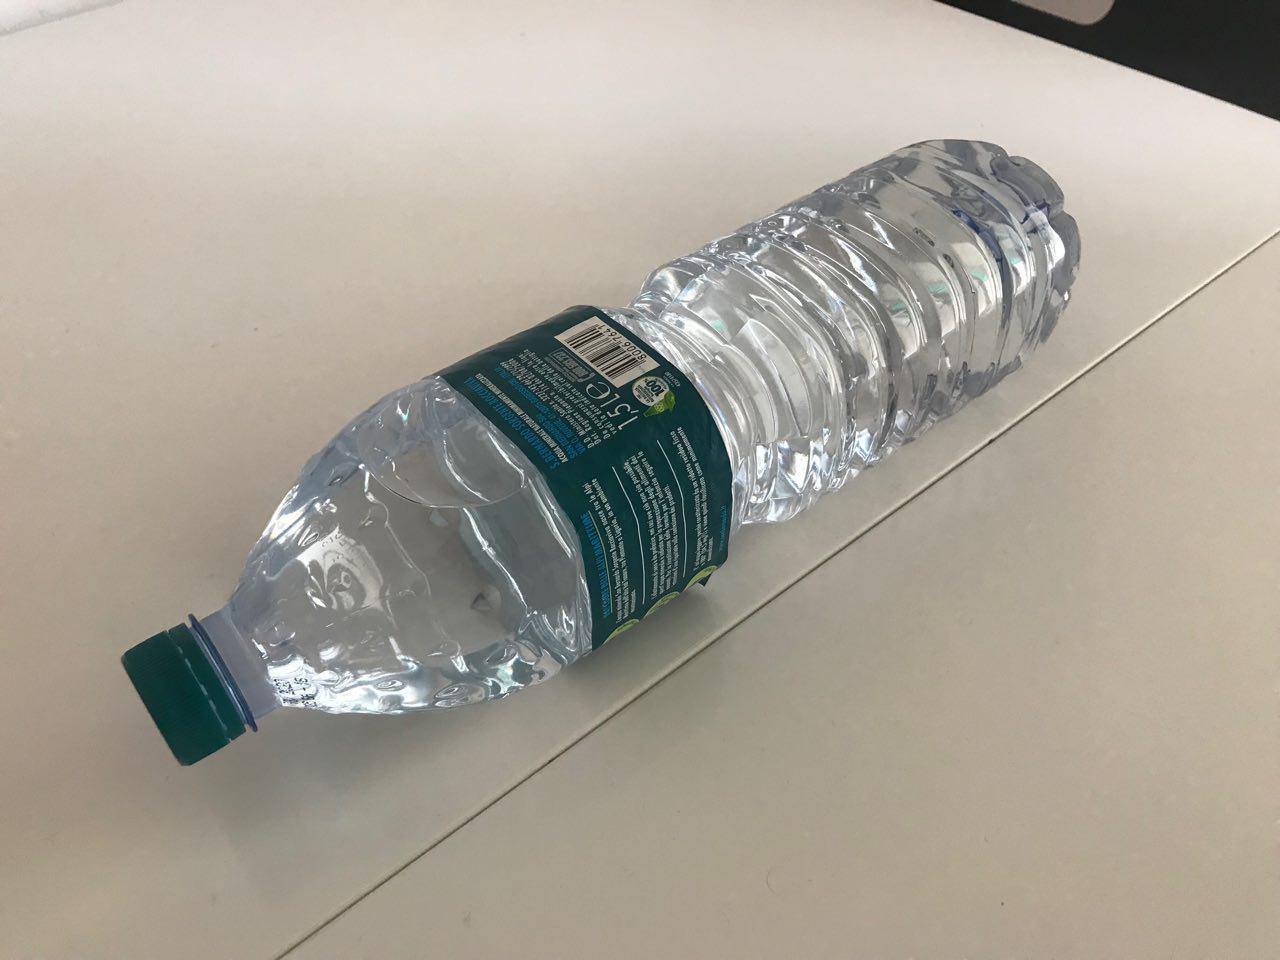san_bernardo: (118, 136, 1083, 770)
